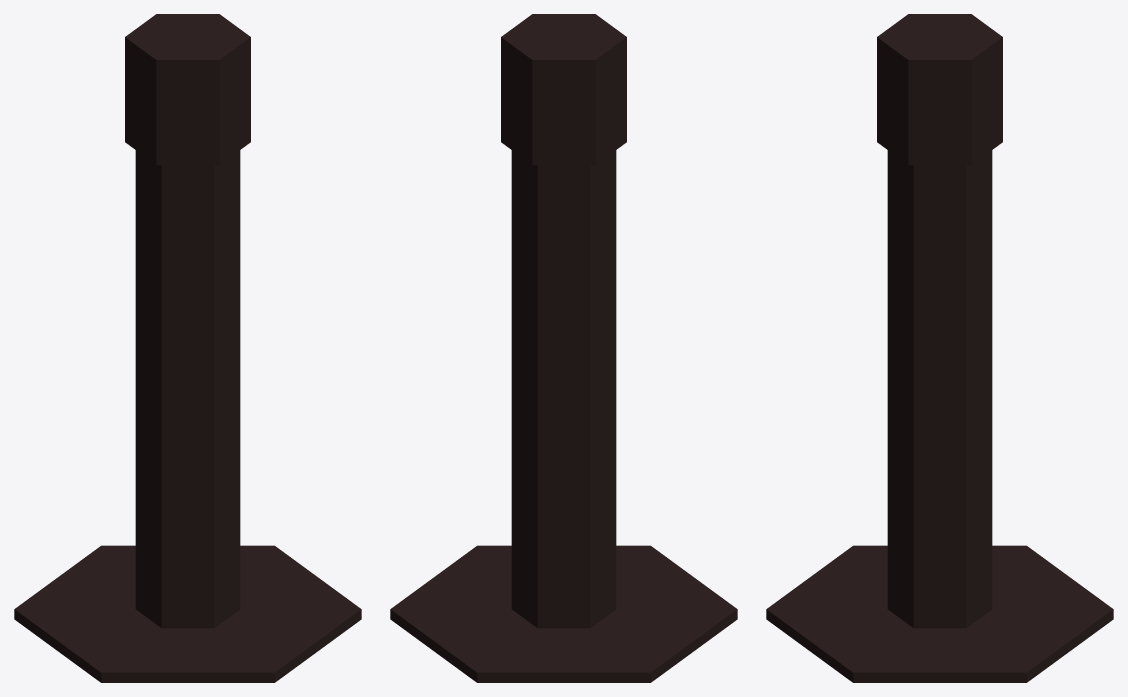
File: FBX_Model_MABacklog_Stanchion_Pole.fbx
3 renders of one model, left to right at view 1: azimuth 30°, elevation 25°; view 2: azimuth 150°, elevation 25°; view 3: azimuth 270°, elevation 25°, orthographic.
Visible parts, largest first — view 1: Stanchion_Pole; view 2: Stanchion_Pole; view 3: Stanchion_Pole.
Boxes of the visible parts, bbox=[...] form: Stanchion_Pole: bbox=[14, 14, 361, 682]; Stanchion_Pole: bbox=[390, 14, 737, 682]; Stanchion_Pole: bbox=[766, 14, 1113, 682].
Bounding box in the file's own units: 5.73 × 12.25 × 6.62.
Materials: 1 (1 with a texture image).
